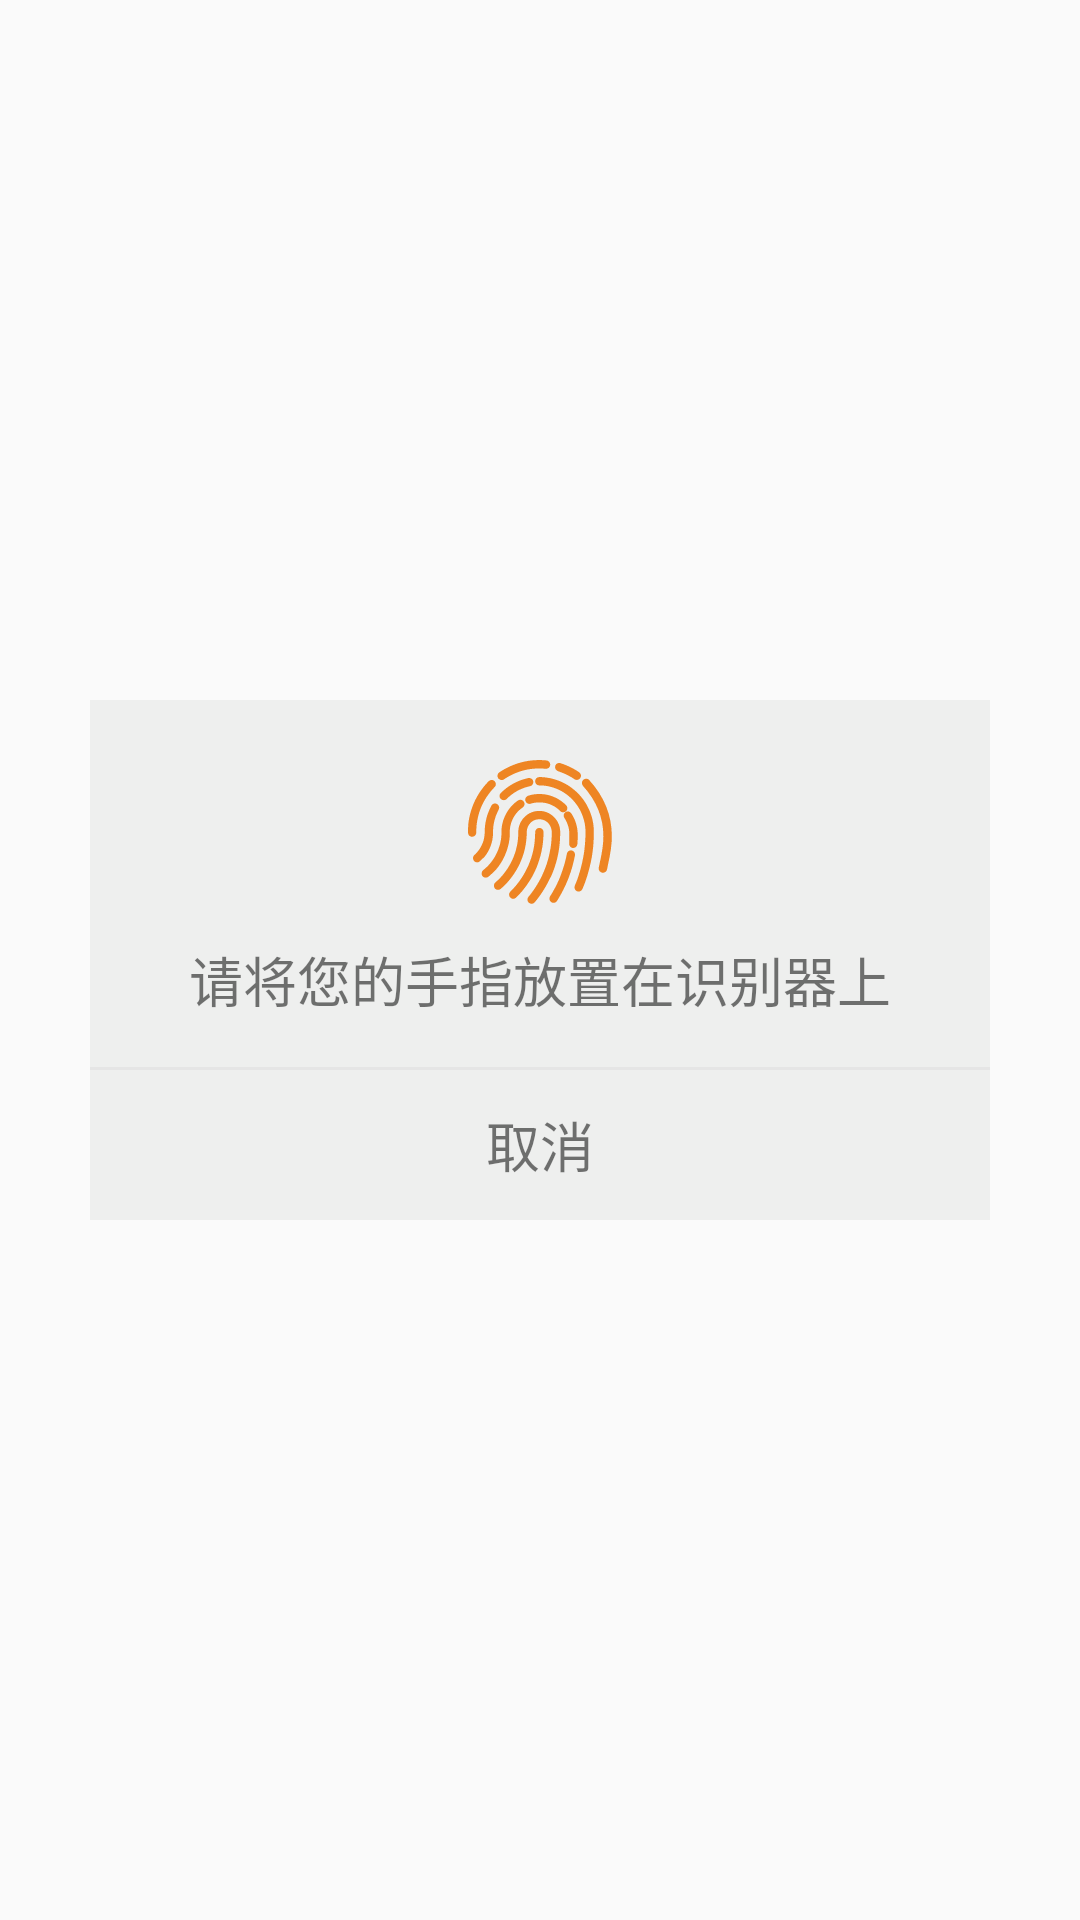

Icon click points for this 1080 × 1920 phone screenshot, format (x,y):
fingerprint: (540,832)
